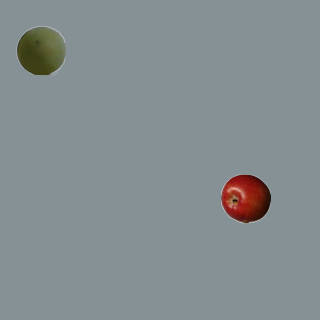Apple Braeburn: (220, 173, 270, 223)
Grape White 4: (15, 25, 65, 75)
